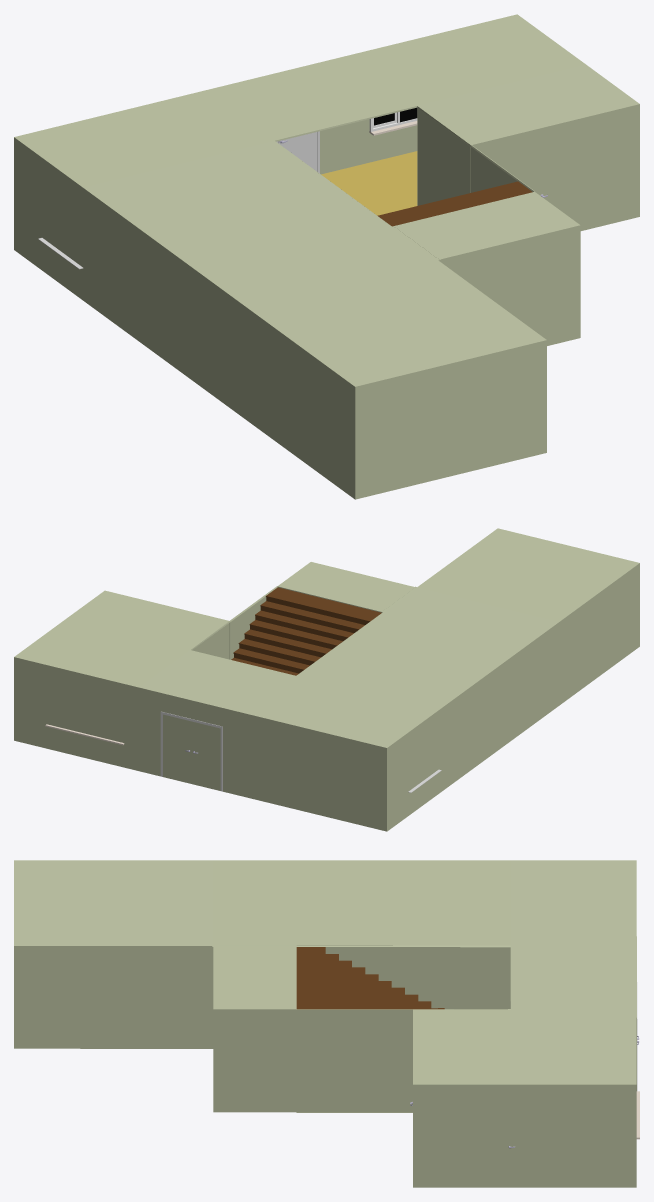
The model's file is downStairs.fbx.
The picture shows the model from 3 angles, top to bottom: view 1: azimuth 30°, elevation 25°; view 2: azimuth 150°, elevation 25°; view 3: azimuth 270°, elevation 25°; orthographic projection. The views are drawn at different scales.
Visible parts, largest first — view 1: Plane, Stairs, Window, Door.006; view 2: Plane, Stairs, DoorFrame.005; view 3: Plane, Stairs.
Boxes of the visible parts, box(x1,y1,x2,y2) form: Plane: box(14, 14, 639, 499); Stairs: box(377, 181, 532, 226); Window: box(369, 107, 417, 135); Door.006: box(278, 132, 317, 171); Plane: box(14, 528, 639, 831); Stairs: box(231, 587, 381, 675); DoorFrame.005: box(160, 711, 222, 791); Plane: box(14, 860, 636, 1187); Stairs: box(296, 947, 444, 1009).
Bounding box in the file's own units: 1219 × 260 × 1421.
